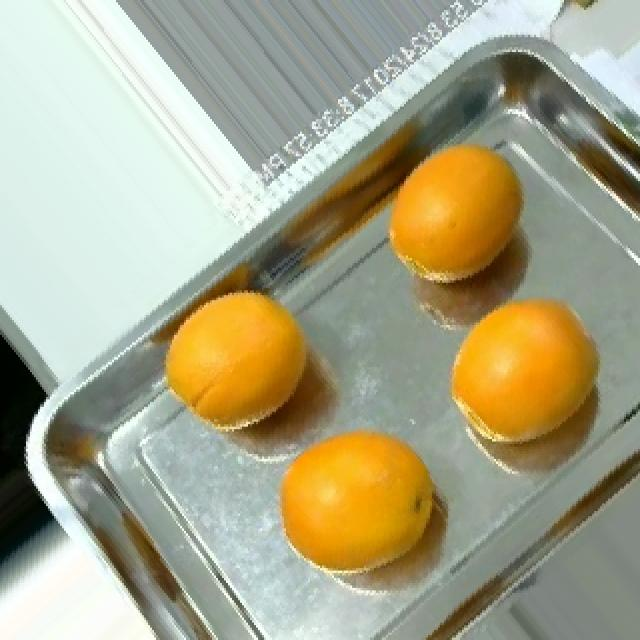Fruit: (254, 404, 456, 620), (362, 114, 566, 323), (140, 268, 340, 479), (0, 449, 72, 590)
